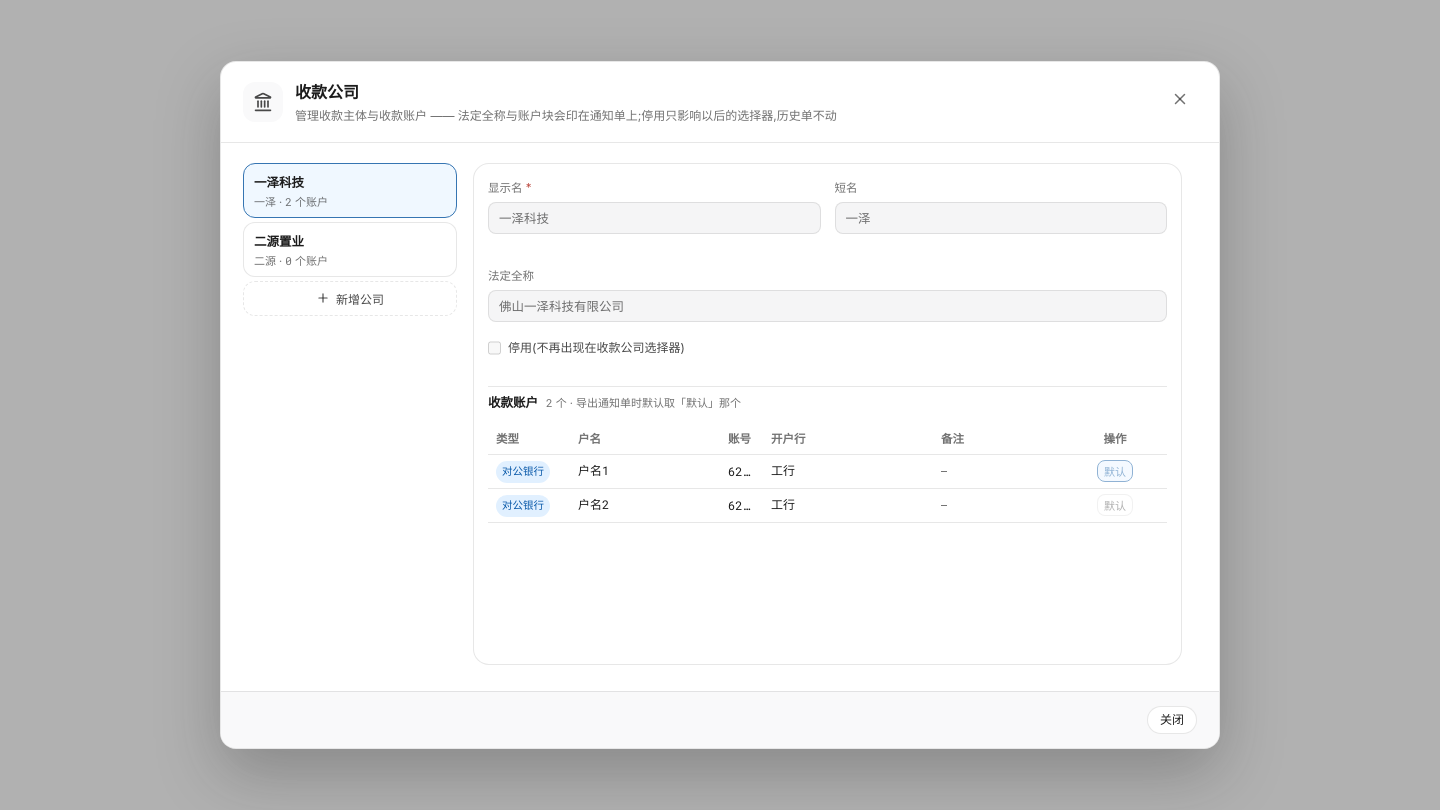
收款公司 › ❗只有新增删除公司权:已有公司只读、不能加账户;点「新增公司」表单能填、按钮写「新增」
Expected: the field labelled "显示名 *" is disabled, [488, 202, 820, 234]
Click the button with class "add". click: (350, 298)
box: [243, 281, 457, 316]
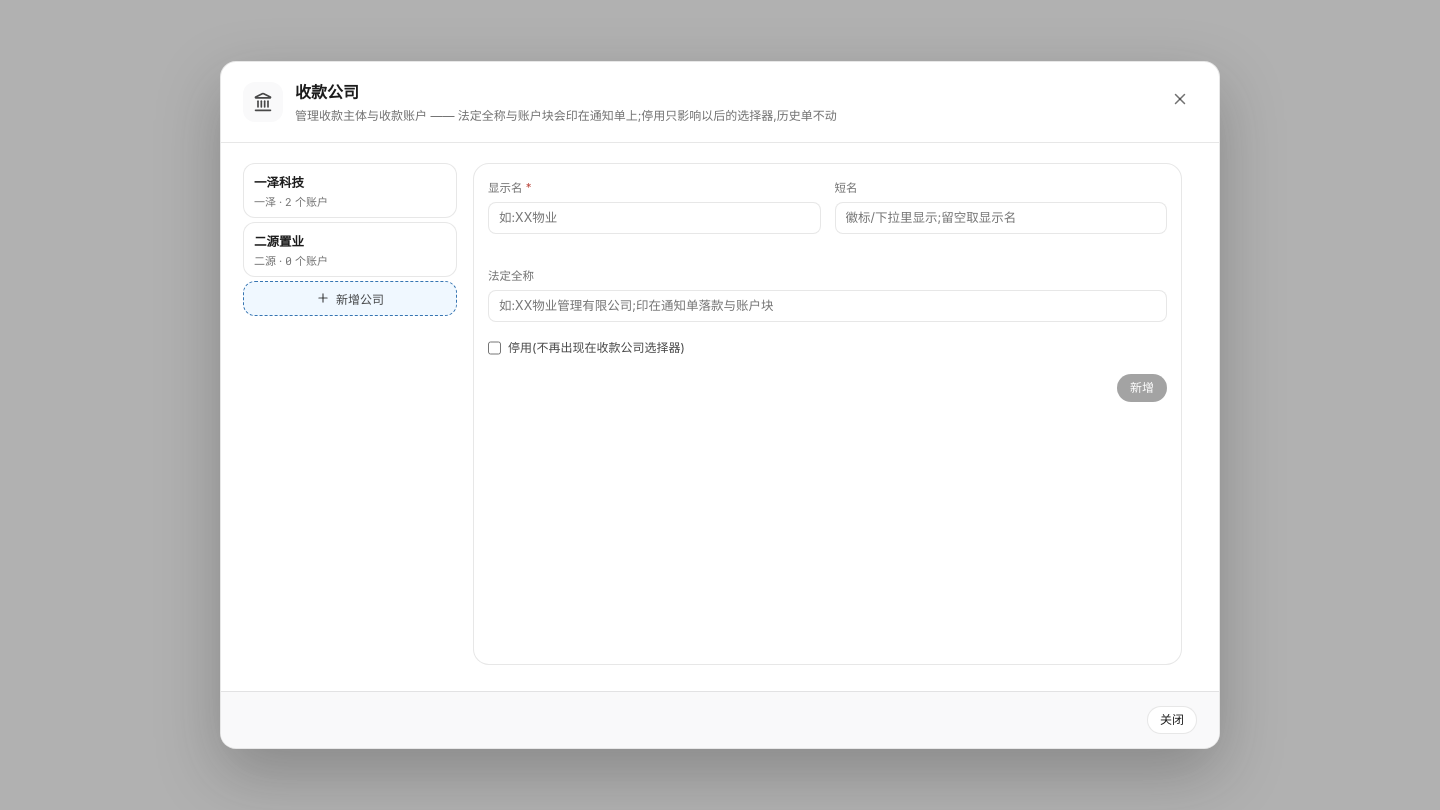
Expected: the field labelled "显示名 *" is enabled, [488, 202, 820, 234]
